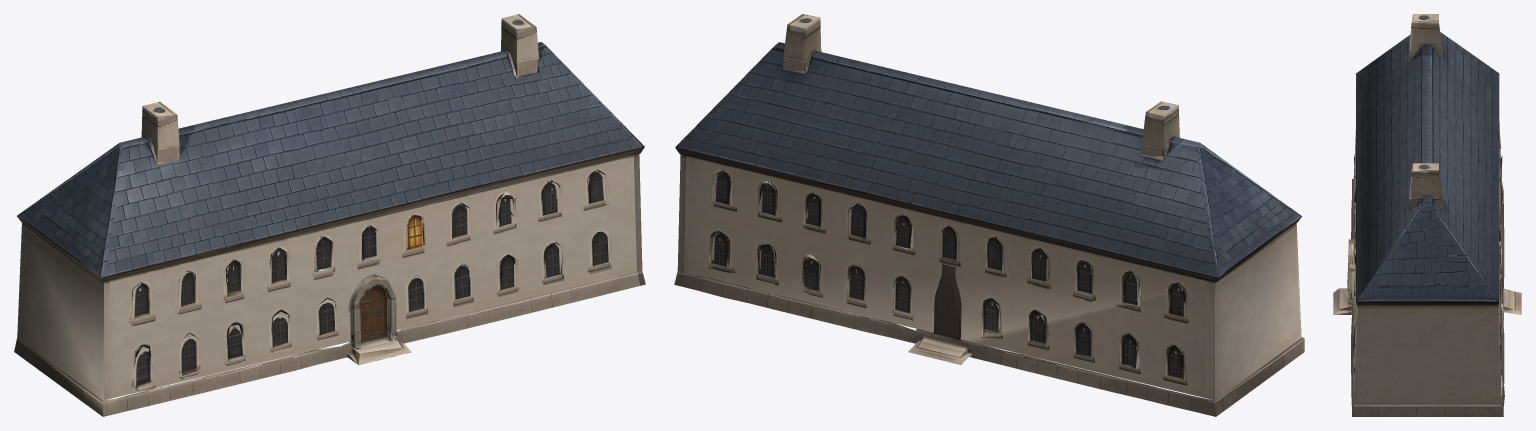
The model's file is act1_extras_v1_hospice_range.glb.
3 views of the same model, side by side, from view 1: azimuth 30°, elevation 25°; view 2: azimuth 150°, elevation 25°; view 3: azimuth 270°, elevation 25° (orthographic). The views are drawn at different scales.
Visible parts, largest first — view 1: A18_4_hospice_range; view 2: A18_4_hospice_range; view 3: A18_4_hospice_range.
Part boxes in pixels (x1,y1,x2,y2): A18_4_hospice_range: (14, 14, 645, 416); A18_4_hospice_range: (674, 14, 1304, 416); A18_4_hospice_range: (1333, 14, 1521, 416).
Bounding box in the file's own units: 0.9995 × 0.4414 × 0.3511.
1 material, 1 textured.
